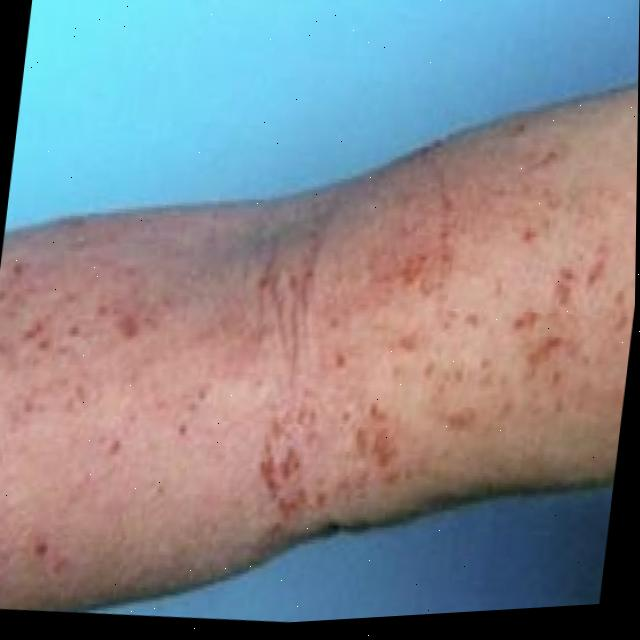Eczema: (0, 71, 638, 640)
